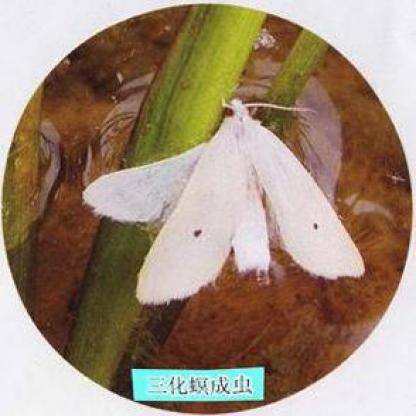stem-borer: (81, 96, 366, 308)
